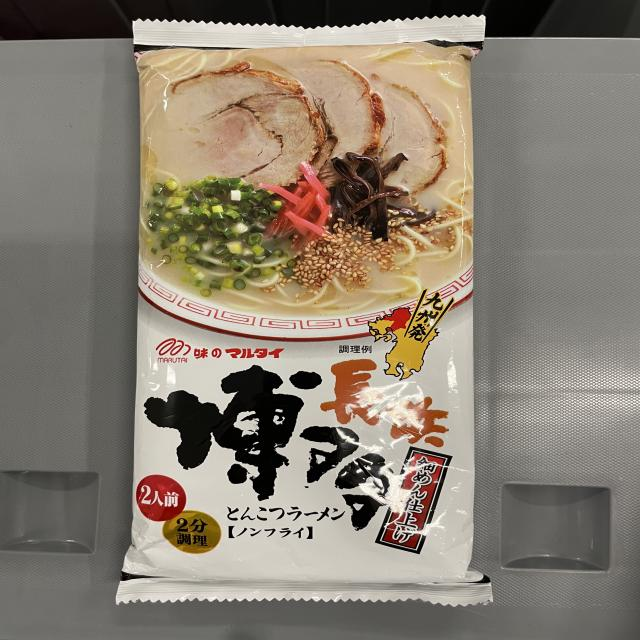object_name: (137, 25, 481, 598)
